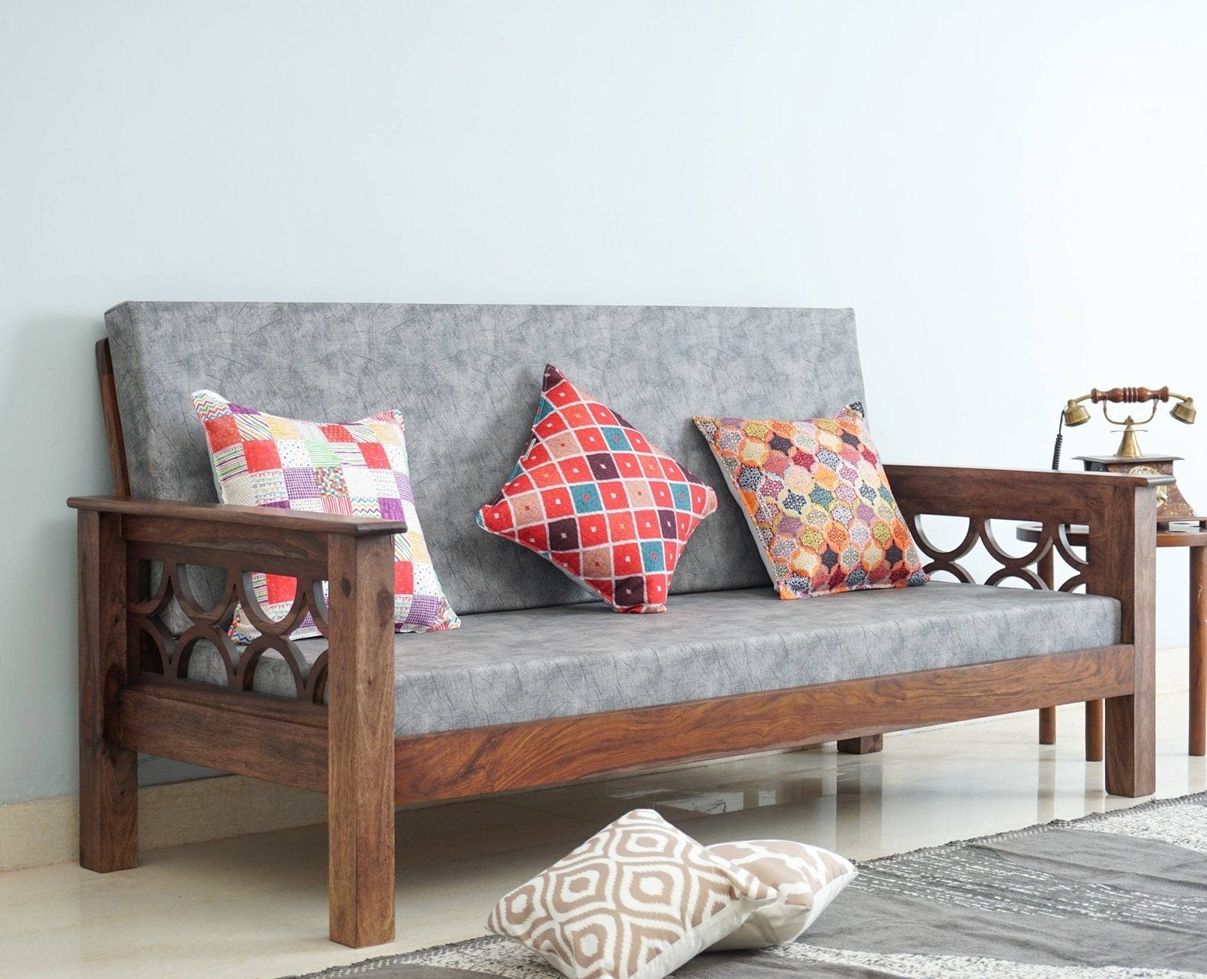3seatersofa: (69, 301, 1155, 946)
backrest: (109, 308, 866, 615)
base: (395, 651, 1132, 803)
leftarmrest: (886, 464, 1155, 652)
leg: (329, 740, 394, 947), (78, 737, 137, 872), (1105, 646, 1155, 797)
pillow: (194, 391, 459, 631), (479, 365, 715, 611), (695, 404, 926, 598)
rightarmrest: (69, 497, 402, 812)
seat: (395, 584, 1117, 735)
